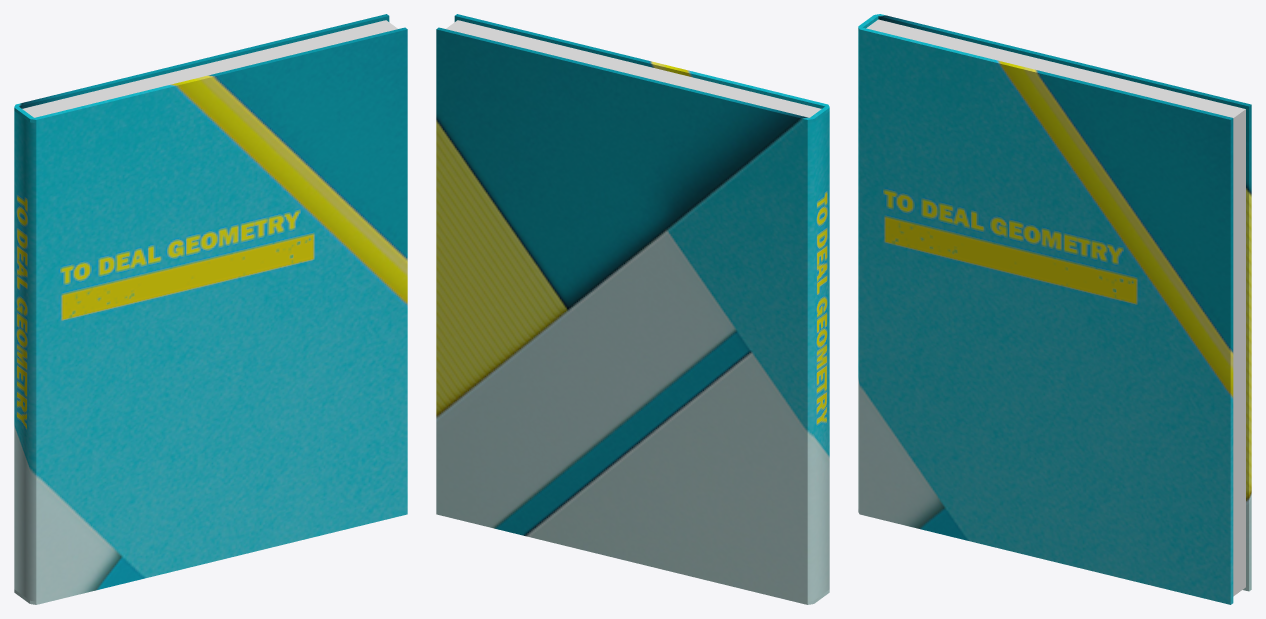
The model's file is book11.FBX.
The picture shows the model from 3 angles, left to right: view 1: azimuth 30°, elevation 25°; view 2: azimuth 150°, elevation 25°; view 3: azimuth 330°, elevation 25°; orthographic projection.
Visible parts, largest first — view 1: book11; view 2: book11; view 3: book11.
Boxes of the visible parts, x1,y1,x2,y2 form: book11: (14,14,407,604); book11: (436,14,829,604); book11: (858,14,1251,604).
Bounding box in the file's own units: 8.05 × 0.7802 × 9.94.
Materials: 1 (1 with a texture image).
